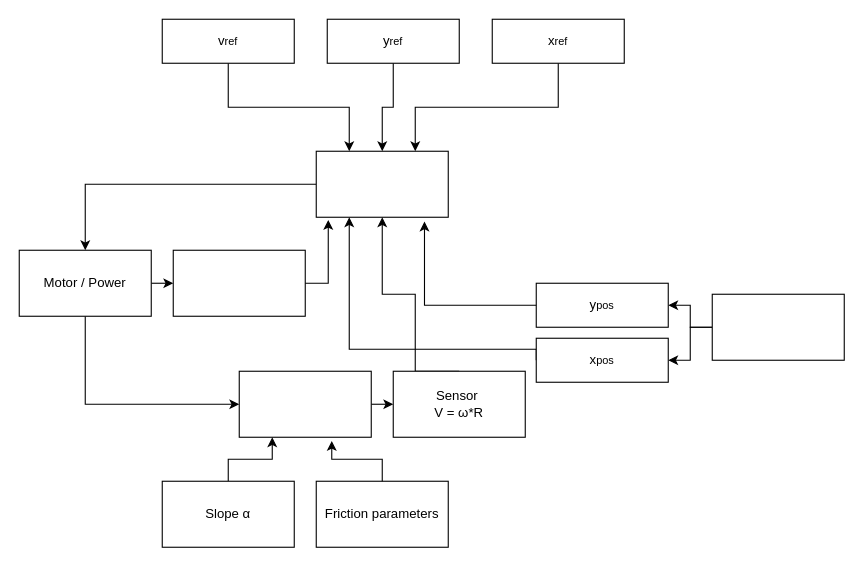
Some shapes in this 864 by 567 pixel diagram are drawn without their labels. The box of each missing label's shape, as (x1, y1, x2, y2) in pixels:
Control Panel: (315, 150, 448, 217)
GPS: (711, 293, 844, 360)
P sensor: (172, 249, 305, 316)
Wheels: (238, 370, 371, 437)
